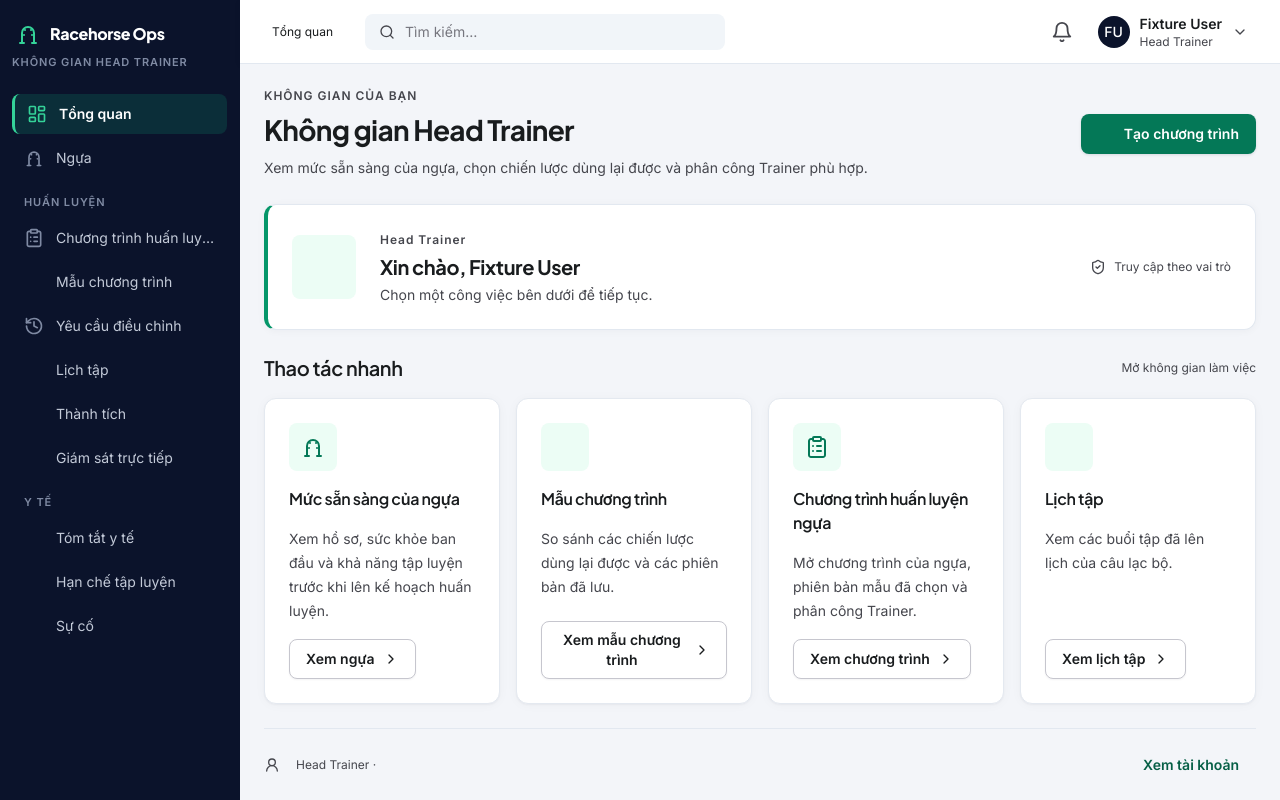
Test: allows HEAD_TRAINER to reach the API-backed notification center from the header
Click the button named "Thông báo, đang kiểm tra số chưa đọc".
click(1062, 32)  # box [1046,16,1078,48]
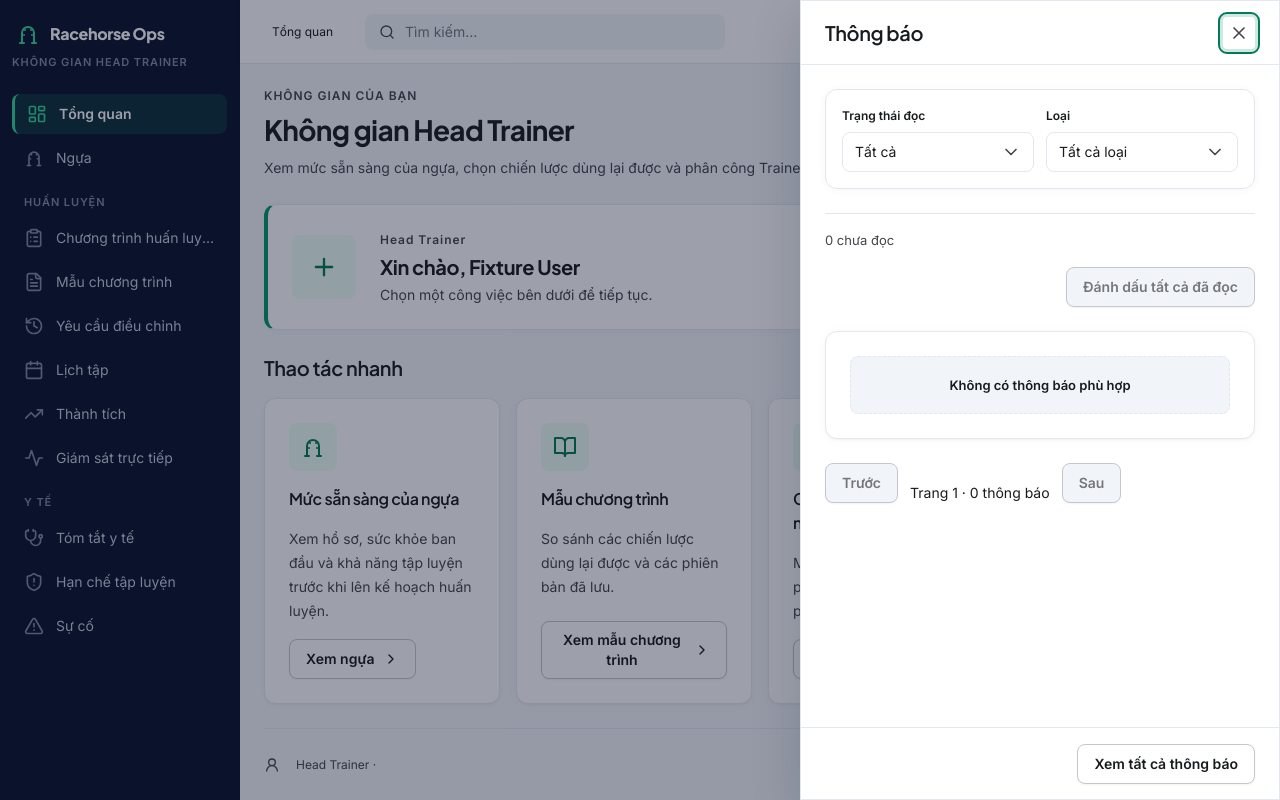
Now the heading "Thông báo" is shown, box [825,18,923,46]
Now the text "Không có thông báo phù hợp" is shown, box [949,377,1131,393]
